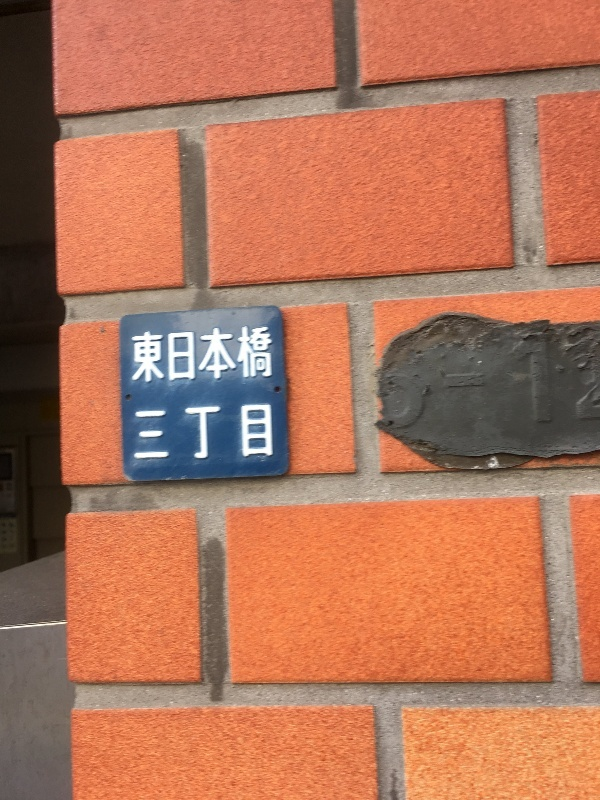text: (257, 324, 273, 385), (145, 324, 160, 385), (161, 324, 176, 385), (177, 324, 192, 385), (193, 324, 208, 385), (209, 324, 224, 385), (225, 324, 240, 385), (241, 324, 256, 385), (145, 403, 160, 461), (161, 403, 176, 461), (177, 403, 192, 461), (193, 403, 208, 461), (209, 403, 224, 461), (225, 403, 240, 461), (241, 403, 256, 461), (257, 403, 272, 461), (132, 324, 144, 385), (135, 403, 144, 461), (273, 403, 274, 461)
